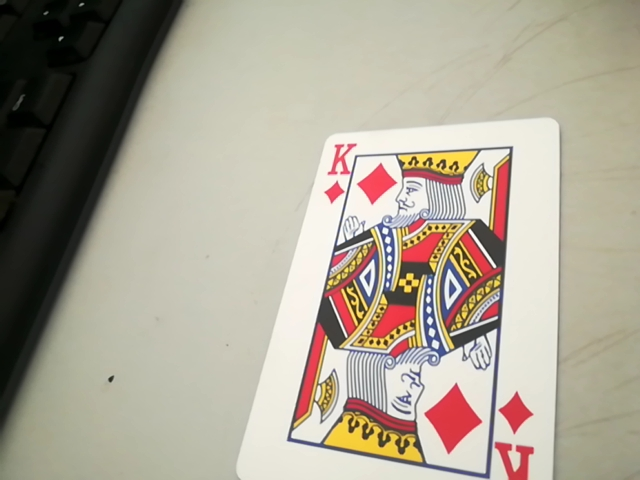fk k: (320, 136, 356, 204)
